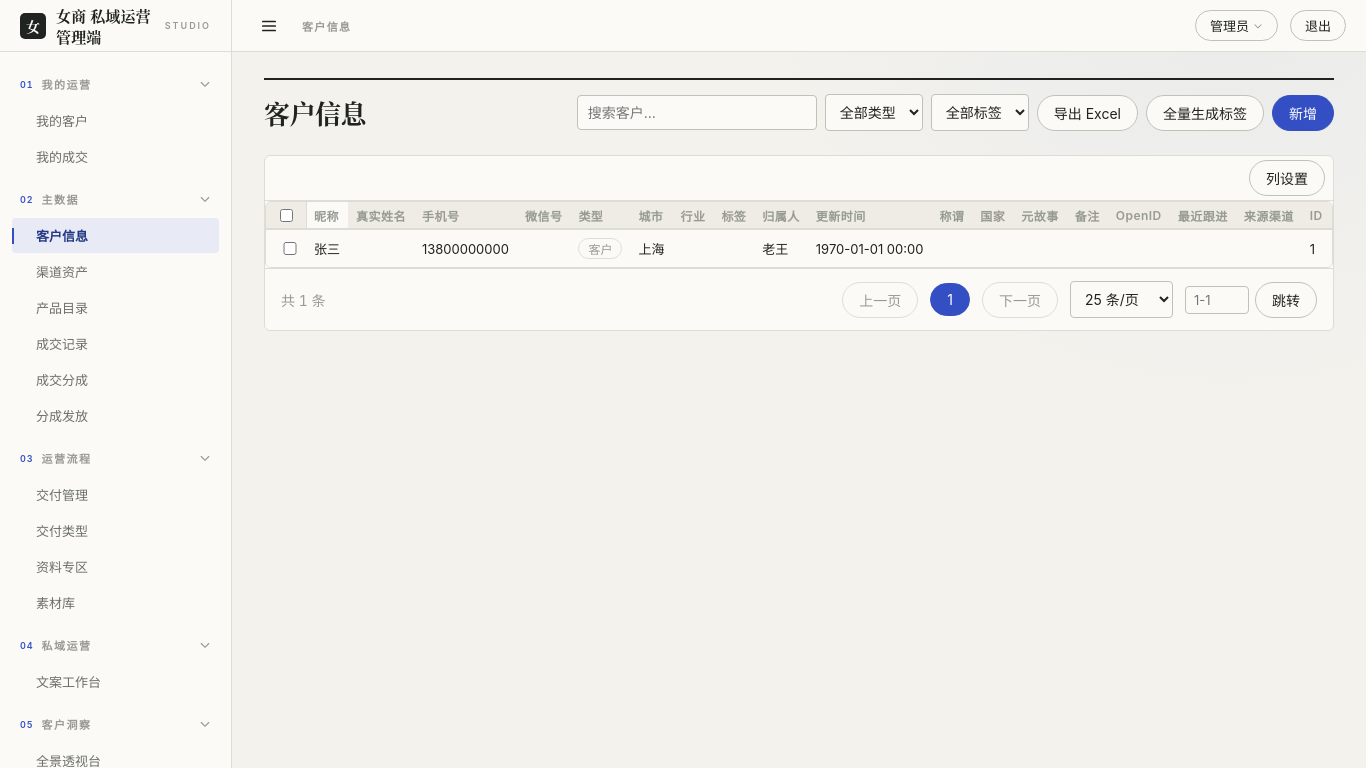
客户信息页 › admin：新增/删除可见，归属人列可编（relation-one 单选，选项来自 GET /users）
This screenshot has width=1366, height=768.
Expected: the text "张三" is shown, x1=306 y1=230 x2=348 y2=267
Expected: the button "新增" is shown, x1=1272 y1=94 x2=1334 y2=130
Double-click the cell "老王" at point(781, 248), box x1=754 y1=230 x2=808 y2=267
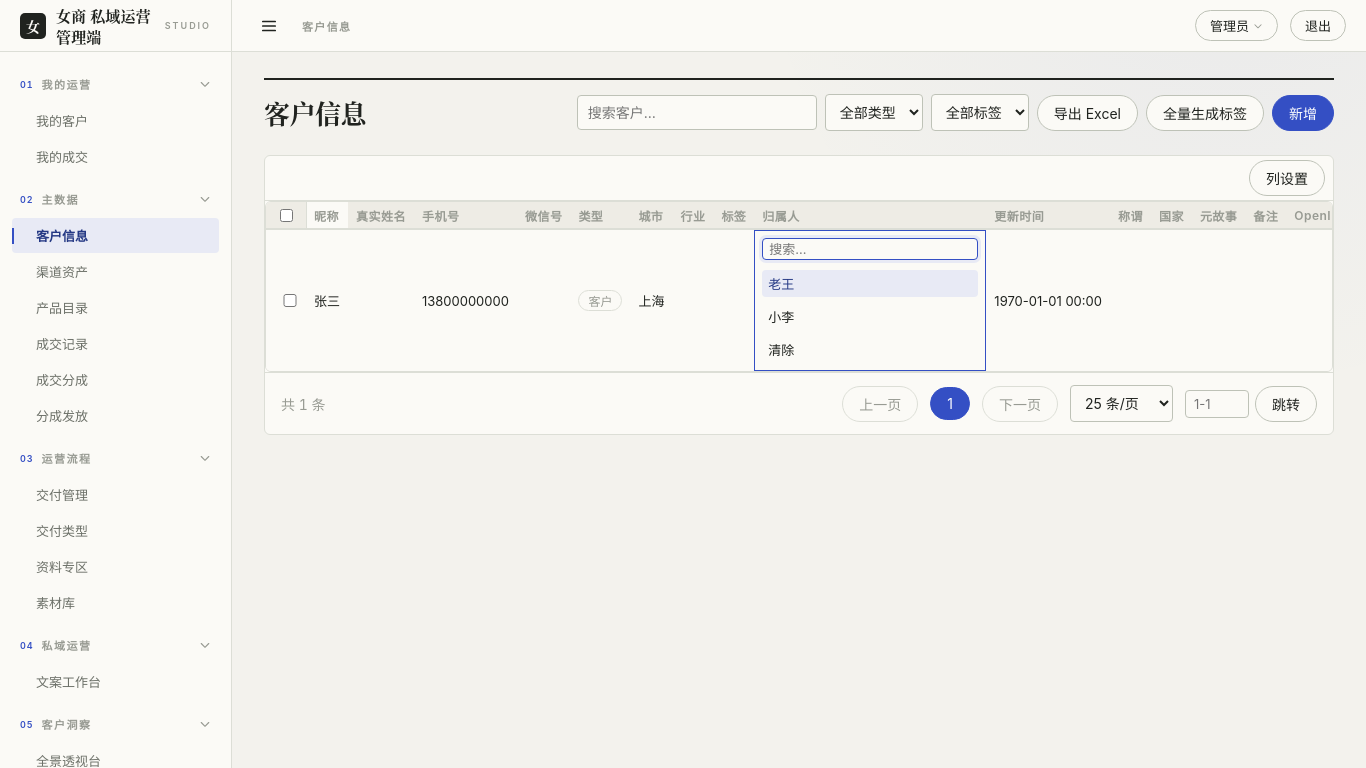
Now the button "小李" is shown, box x1=762 y1=303 x2=978 y2=330
